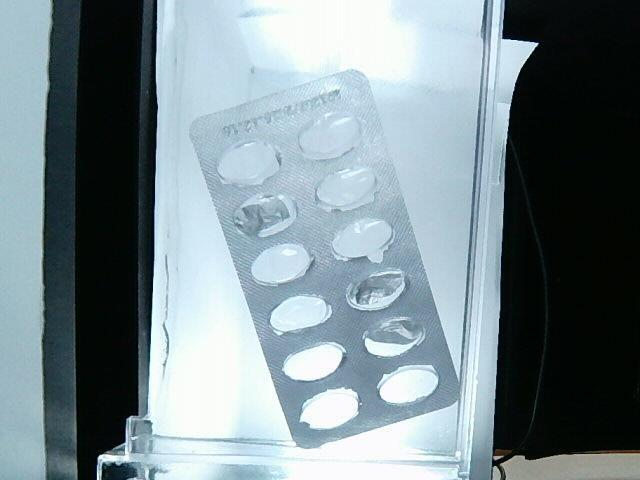Light Front: (190, 70, 458, 446)
No Pill Front: (218, 139, 281, 185), (299, 113, 361, 159), (331, 219, 394, 263), (234, 194, 296, 237), (315, 168, 376, 211), (251, 244, 313, 285), (270, 295, 331, 335), (364, 316, 425, 356), (378, 365, 439, 404), (346, 269, 404, 310), (300, 389, 358, 430), (283, 343, 345, 381)
